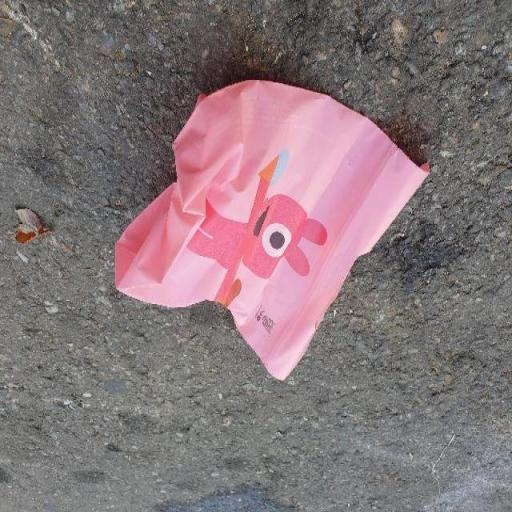plastic-bag: (113, 77, 428, 386)
